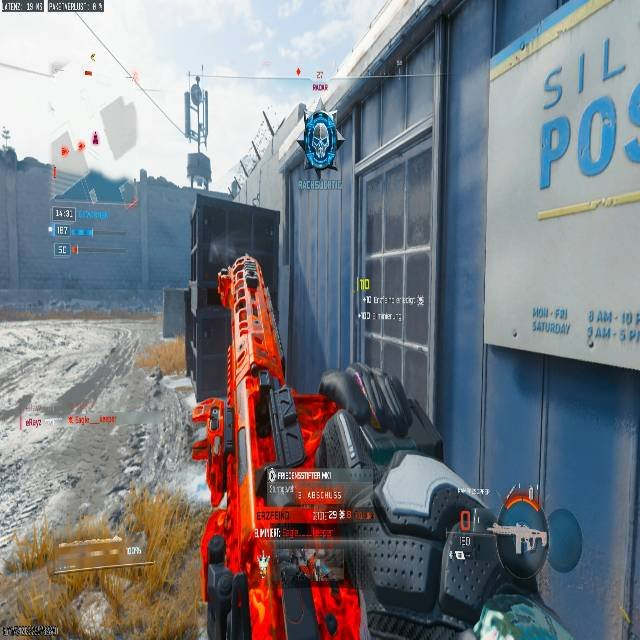head: (488, 498, 549, 575)
player: (294, 365, 589, 639), (448, 496, 584, 639)
